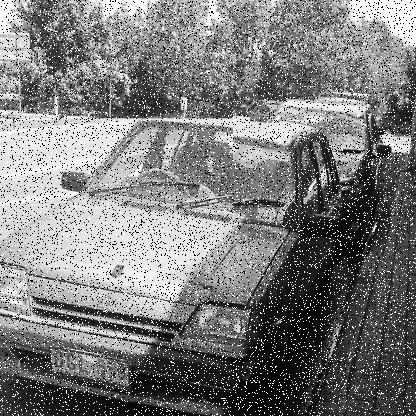Car: (0, 118, 348, 415), (233, 92, 392, 256), (250, 103, 280, 124)
